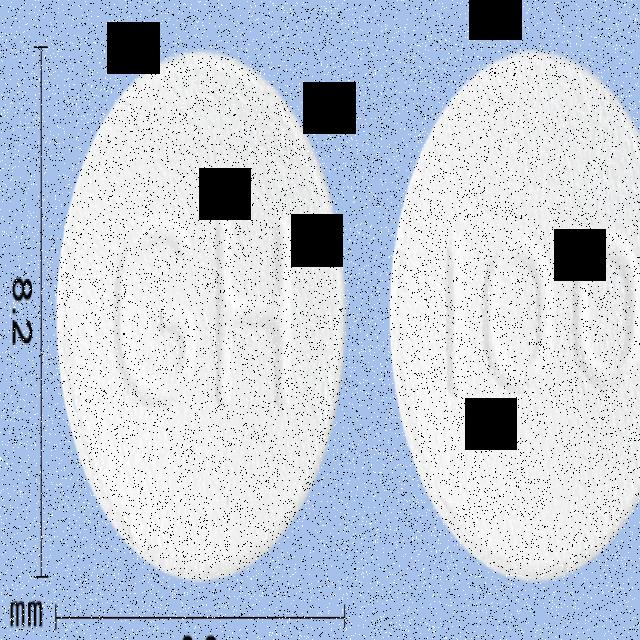Levona -500mg: (54, 48, 347, 584), (390, 46, 640, 583)
